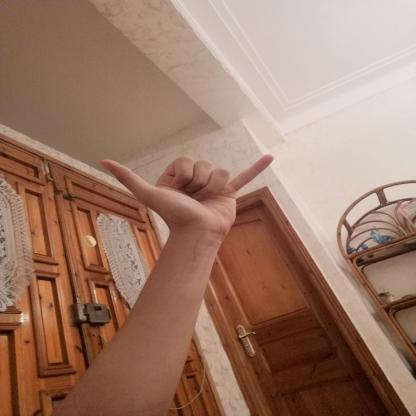YA: (87, 141, 289, 246)
